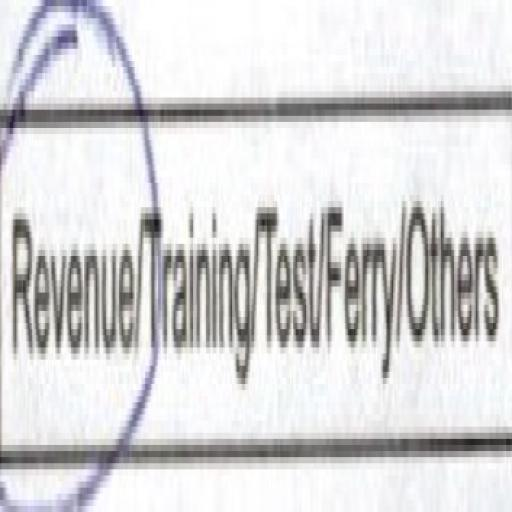check: (0, 0, 126, 512)
